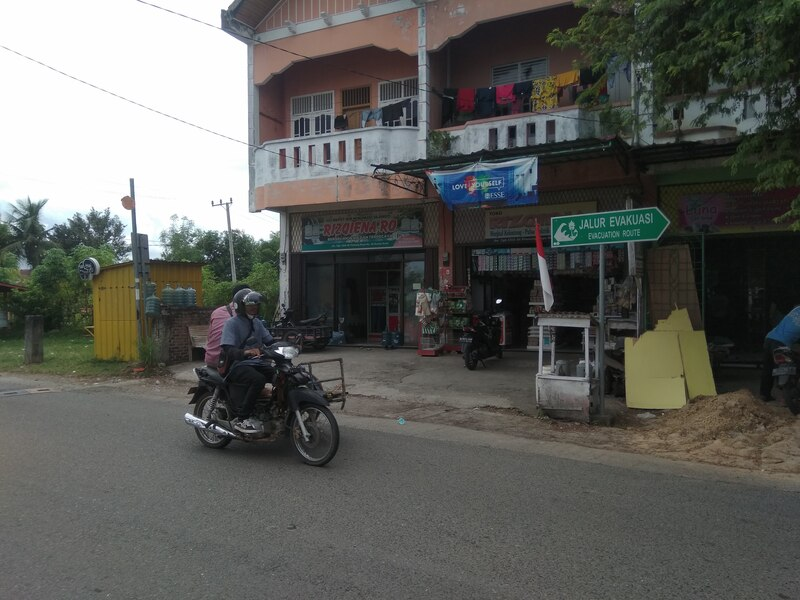becak barang: (181, 336, 353, 472), (267, 303, 337, 358)
